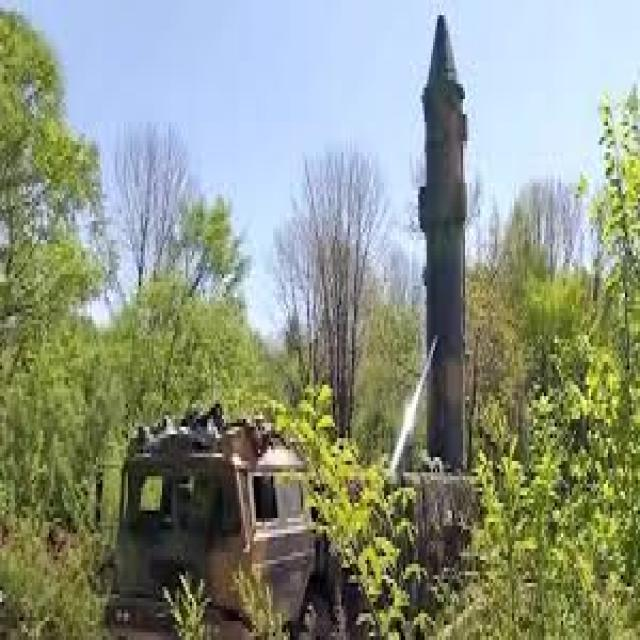missile: (413, 7, 475, 472)
